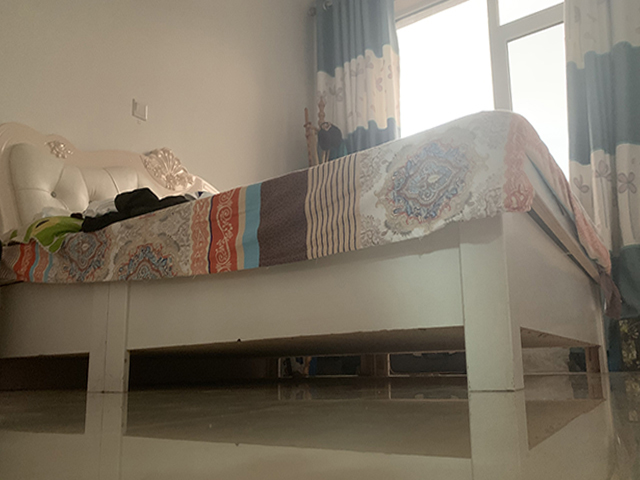bed: (1, 109, 613, 395)
curtain: (567, 1, 640, 321), (306, 1, 404, 168)
